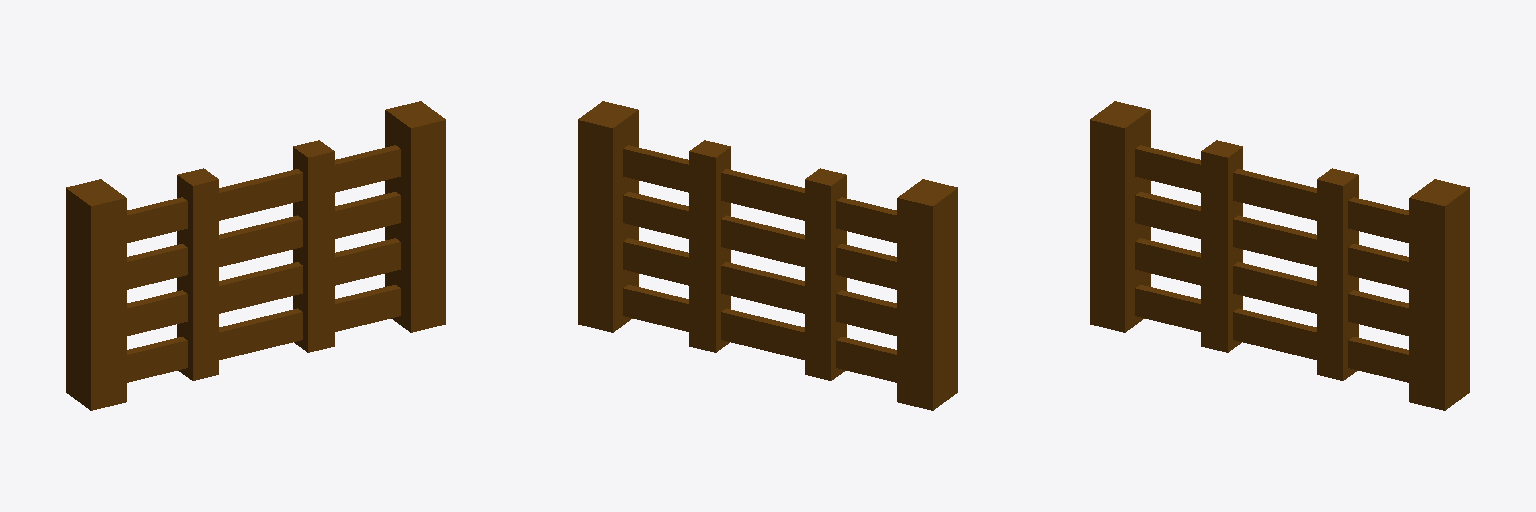
3 renders of one model, left to right at view 1: azimuth 30°, elevation 25°; view 2: azimuth 150°, elevation 25°; view 3: azimuth 330°, elevation 25°, orthographic.
Visible parts, largest first — view 1: object 1; view 2: object 1; view 3: object 1.
Part boxes in pixels (x1,y1,x2,y2): object 1: (66, 101, 445, 410); object 1: (578, 101, 957, 410); object 1: (1090, 101, 1469, 410).
Bounding box in the file's own units: 4 × 2.2 × 0.5.
1 materials, 1 textured.